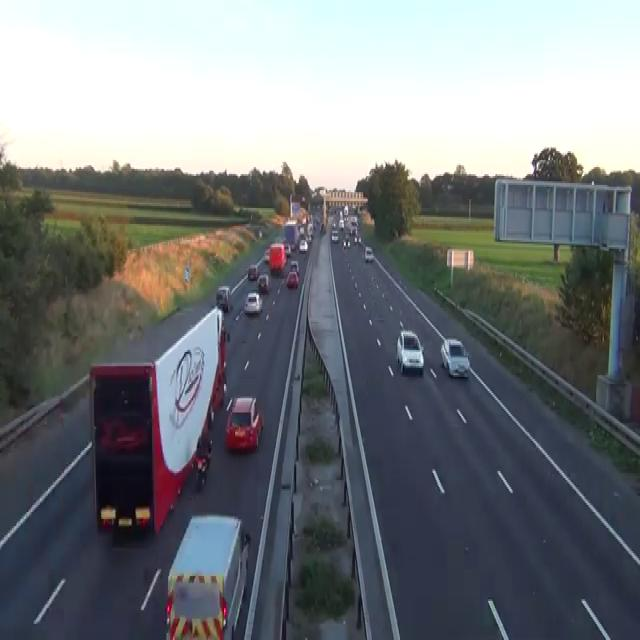Car: (167, 576, 228, 638), (95, 409, 152, 475), (225, 394, 263, 452), (396, 329, 424, 375), (440, 338, 470, 378), (195, 432, 212, 471), (243, 292, 262, 314), (215, 285, 230, 311), (275, 236, 291, 256), (257, 274, 270, 292), (285, 270, 298, 288), (207, 400, 214, 428), (247, 263, 258, 279), (364, 246, 373, 262), (289, 260, 299, 274), (298, 238, 307, 252), (283, 242, 291, 256), (342, 236, 350, 249), (331, 229, 338, 242), (350, 215, 358, 226), (264, 247, 269, 261), (354, 233, 361, 243), (446, 182, 454, 190), (338, 219, 344, 229), (331, 220, 337, 230), (320, 222, 325, 233), (298, 226, 304, 234), (353, 234, 357, 243), (258, 230, 262, 238)
Truck: (88, 306, 227, 537), (164, 512, 250, 638), (283, 219, 298, 249)
